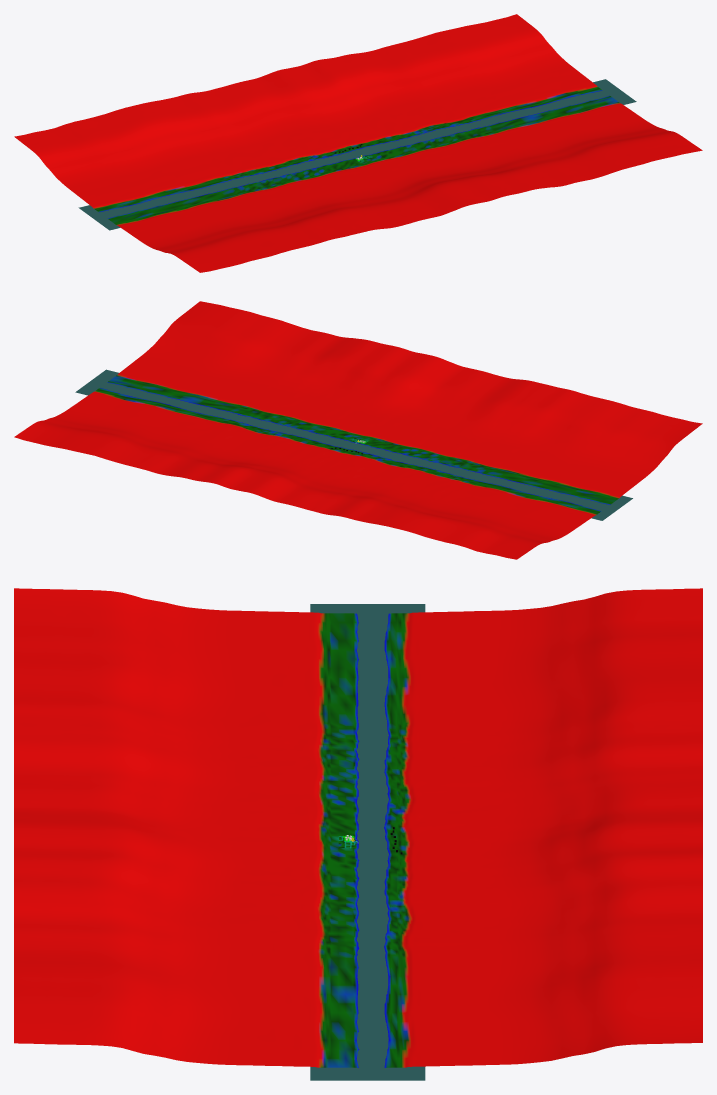
Rendered from nilufer.glb.
3 renders of one model, top to bottom at view 1: azimuth 30°, elevation 25°; view 2: azimuth 150°, elevation 25°; view 3: azimuth 270°, elevation 25°, orthographic. The views are drawn at different scales.
Visible parts, largest first — view 1: Fern, Wasser; view 2: Fern, Wasser; view 3: Fern, Wasser.
Boxes of the visible parts, x1,y1,x2,y2 form: Fern: [14, 14, 702, 272]; Wasser: [78, 79, 636, 230]; Fern: [14, 301, 702, 559]; Wasser: [75, 369, 632, 520]; Fern: [14, 588, 702, 1067]; Wasser: [310, 604, 425, 1080].
Bounding box in the file's own units: 2500 × 74.24 × 1528.
